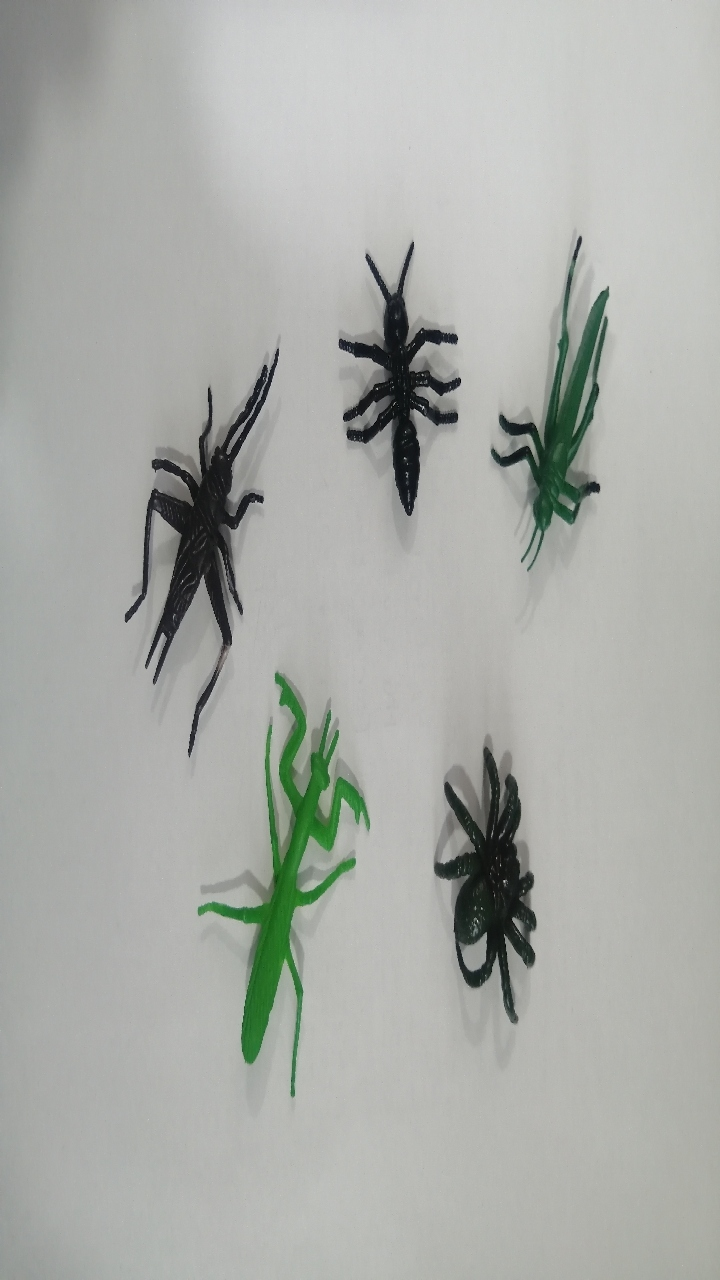intruso: (155, 668, 380, 1117), (63, 348, 278, 752), (403, 725, 588, 1075), (471, 215, 640, 597), (298, 222, 481, 537)
